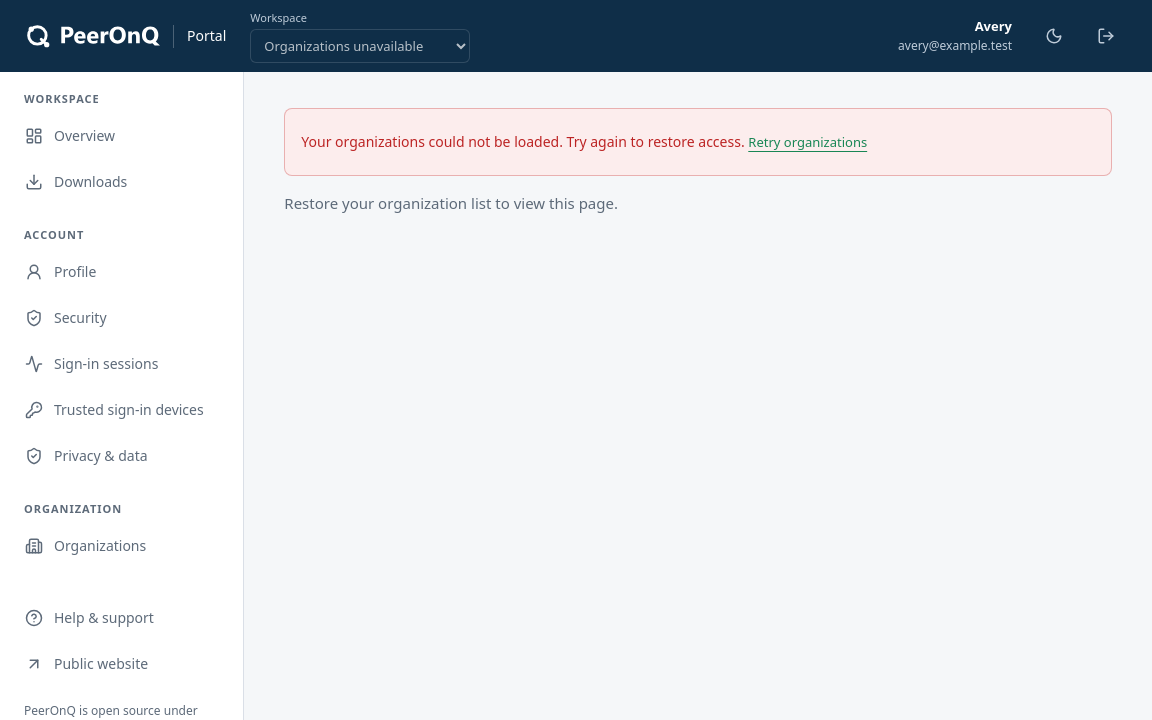
Test: portal workspace › shows an actionable organization-load error and can retry
Expected: the message shows "Your organizations could not be loaded.", [301,132,745,151]
Click the button "Retry organizations" at [808, 142], box [748,122,867,162]
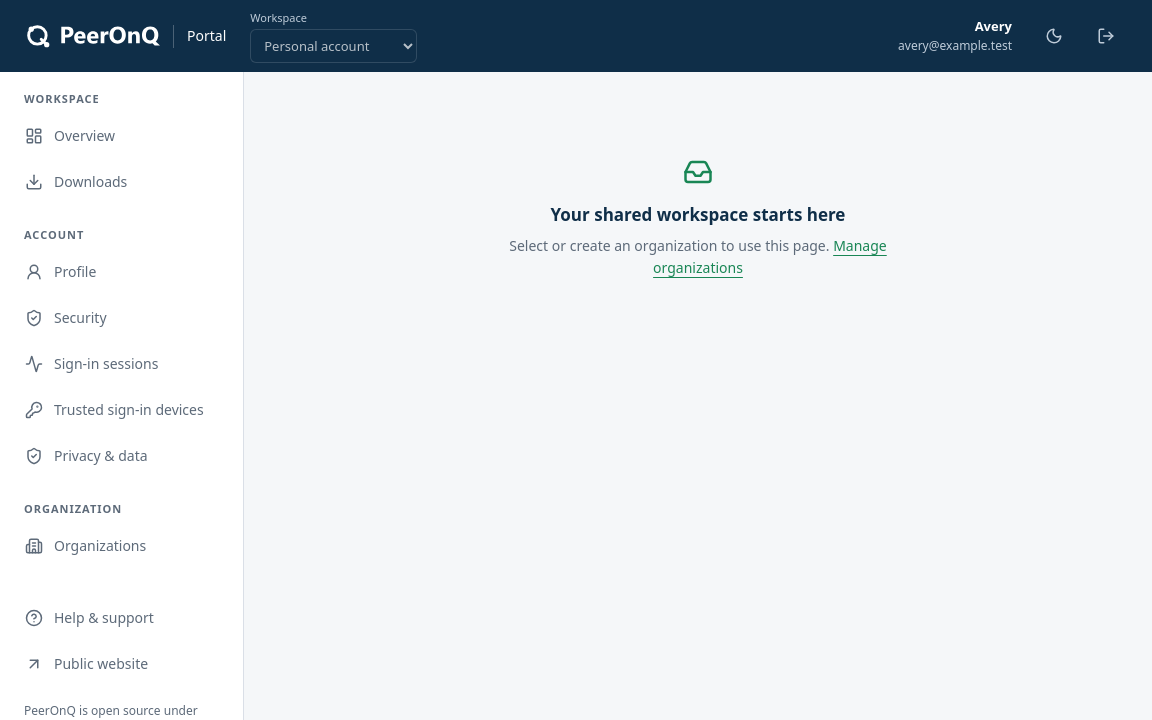
Expected: the heading "Your shared workspace starts here" is shown, [551,203,845,227]
Expected: the message is gone
